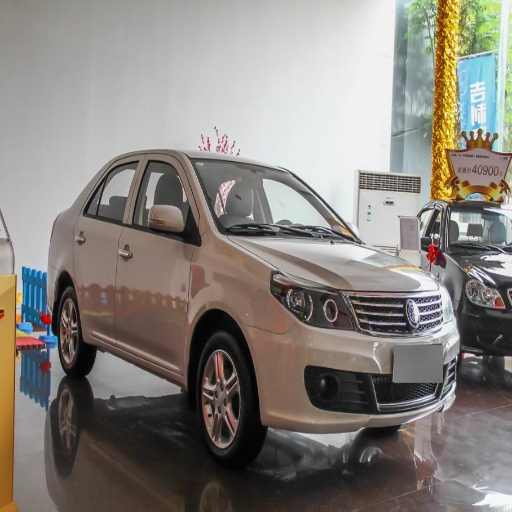front_bumper: (245, 290, 456, 435)
front_right_door: (120, 154, 200, 369)
front_right_light: (270, 273, 343, 325)
